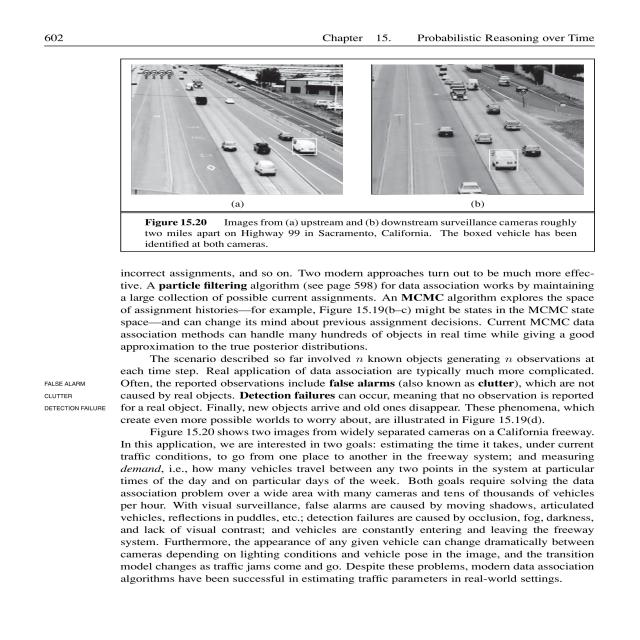diagram: (121, 56, 603, 248)
